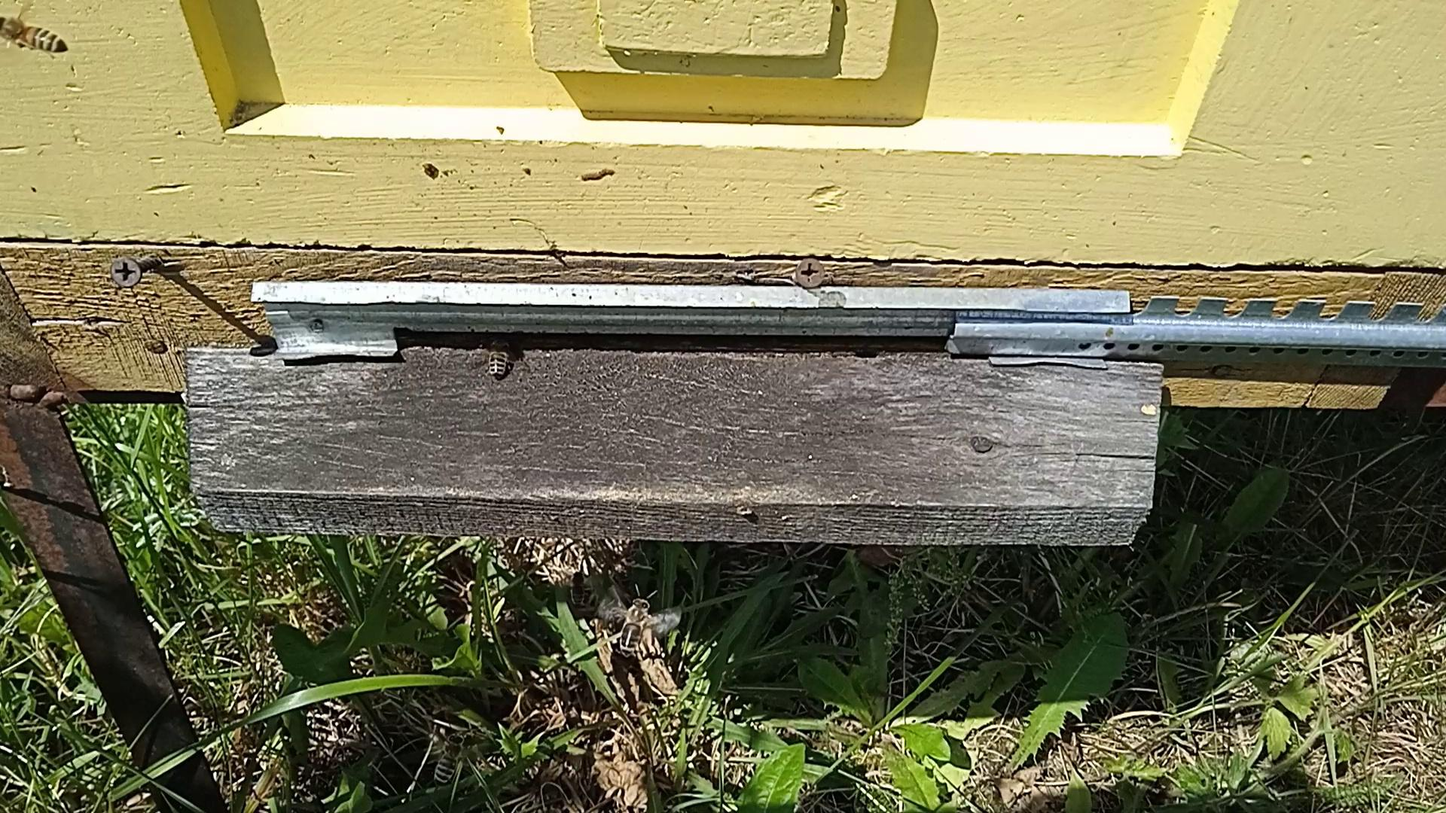worker-bee: (1, 5, 69, 54), (619, 595, 653, 658), (432, 732, 465, 787), (481, 335, 514, 379), (569, 571, 585, 606)
